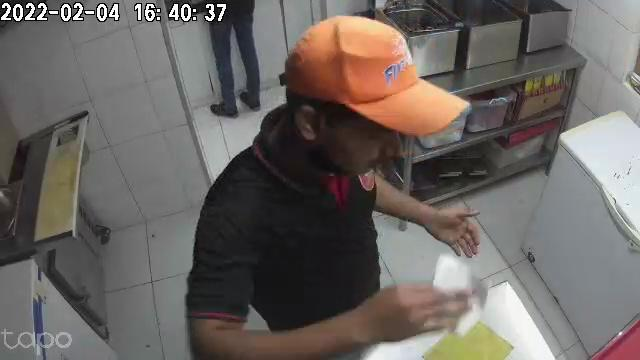no_gloves: (422, 205, 479, 256)
